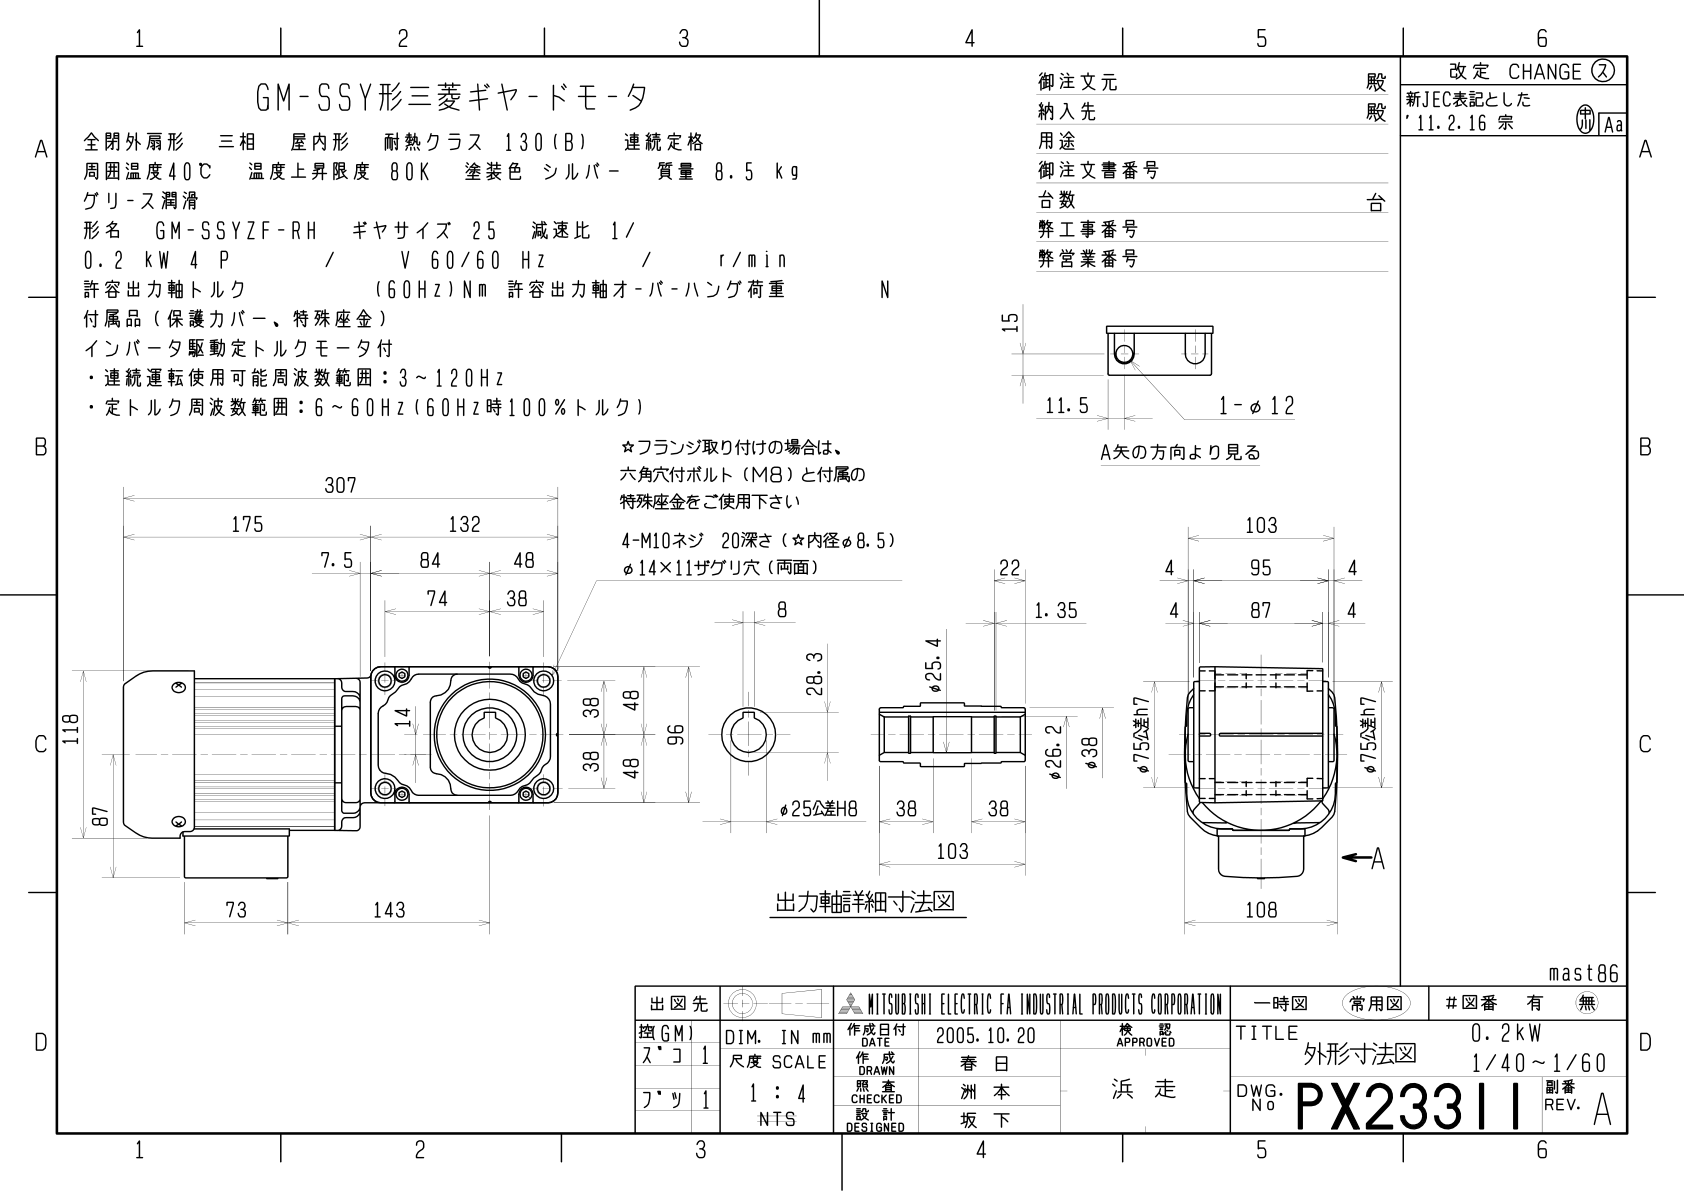GM_SSY_インバータ屋内_三相: (58, 440, 1392, 969)
